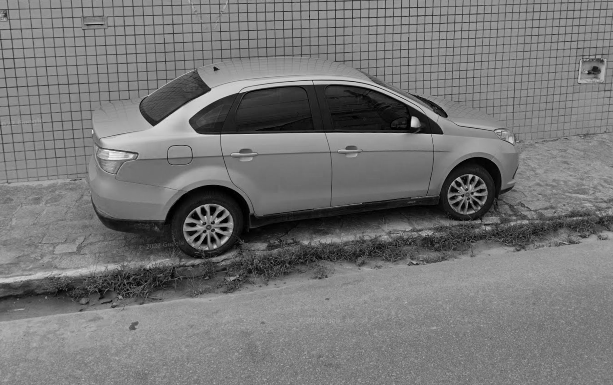car: (85, 50, 532, 261)
